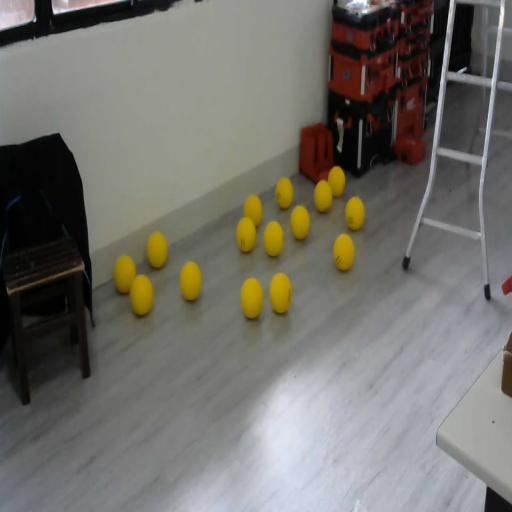FUEL: (129, 273, 154, 317), (178, 260, 203, 302), (240, 276, 264, 319), (269, 272, 292, 314), (114, 254, 136, 294), (263, 219, 284, 257), (147, 231, 168, 269), (333, 233, 354, 271), (290, 206, 310, 240), (313, 178, 333, 212), (275, 176, 294, 210), (345, 196, 364, 230), (244, 194, 262, 228), (328, 166, 346, 197)
